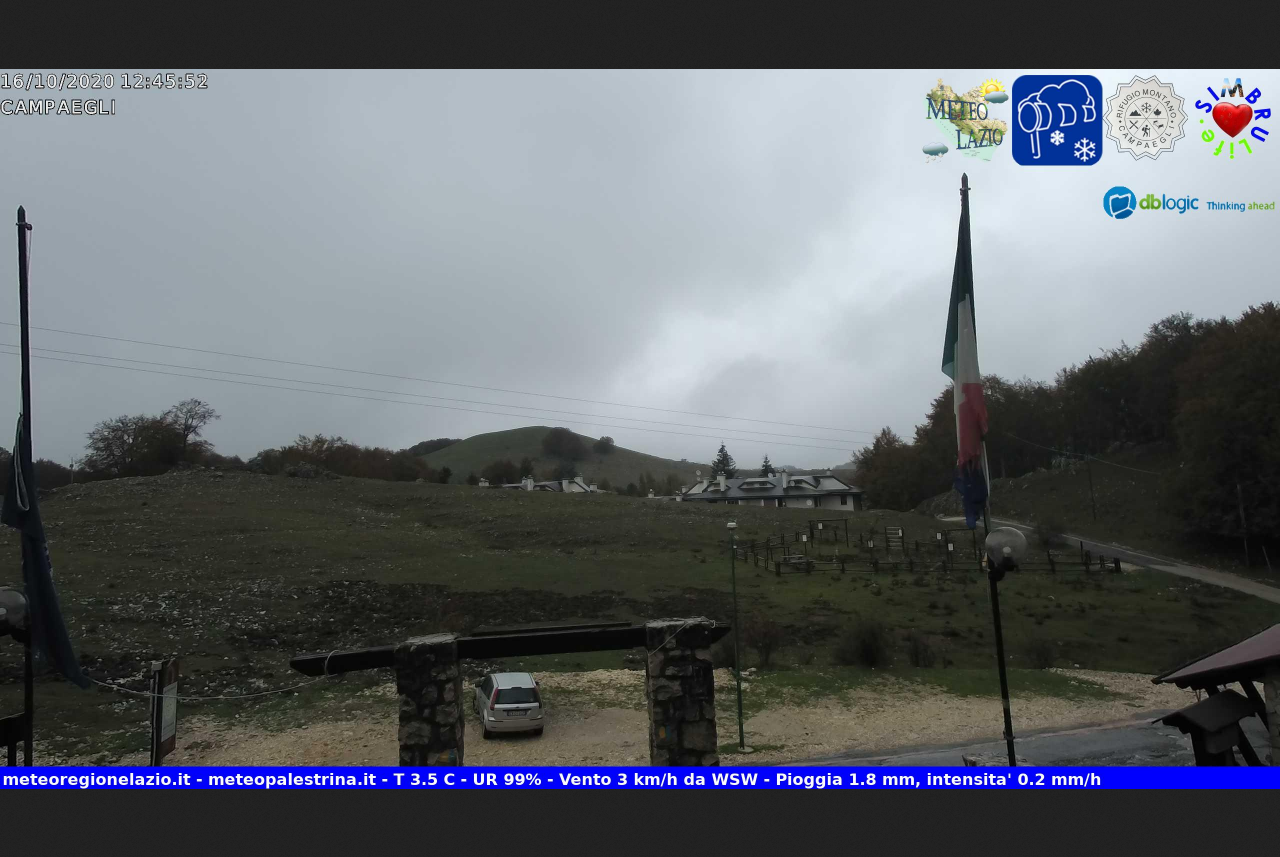no: (929, 163, 1003, 529)
